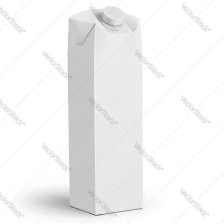carton: (61, 3, 150, 217)
